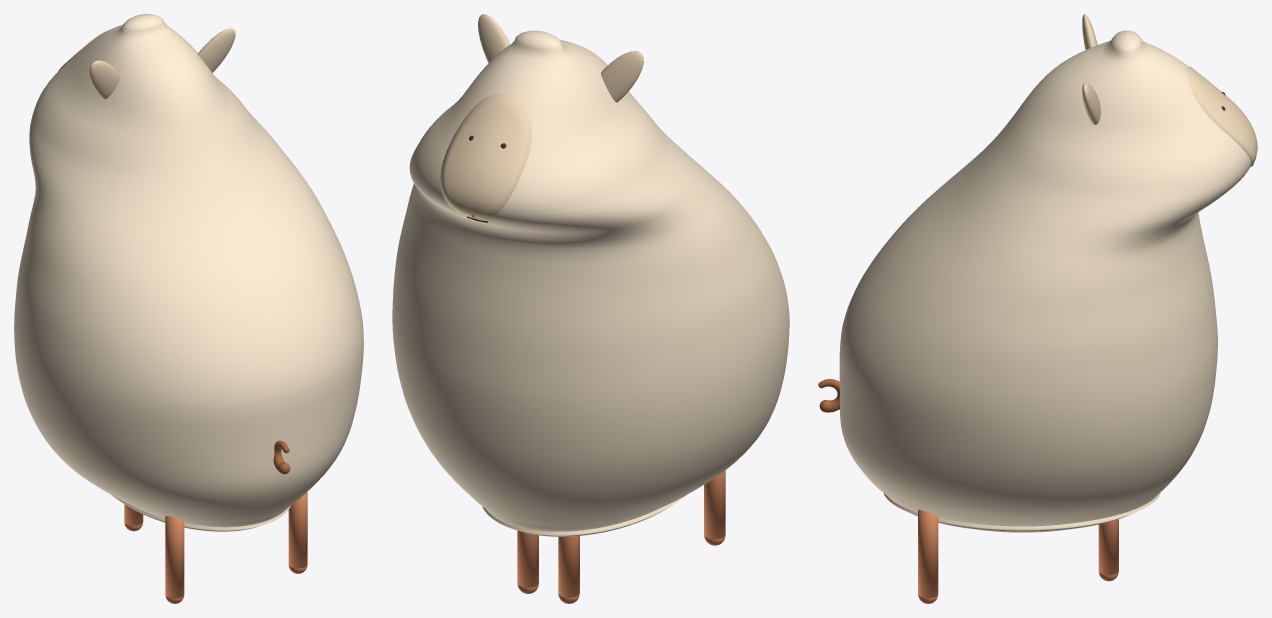
Rendered from sheep_RELEASE_v1.glb.
3 views of the same model, side by side, from view 1: azimuth 30°, elevation 25°; view 2: azimuth 150°, elevation 25°; view 3: azimuth 270°, elevation 25° (orthographic). The views are drawn at different scales.
Visible parts, largest first — view 1: Body, Leg_BR, Leg_BL, Ear_L, Ear_R; view 2: Body, Face, Ear_R, Leg_BR, Leg_FR, Leg_FL, Ear_L; view 3: Body, Face, Leg_BL, Leg_FL.
Part boxes in pixels (<box>): Body: <box>14,14,363,531</box>; Leg_BR: <box>165,516,184,598</box>; Leg_BL: <box>288,492,307,568</box>; Ear_L: <box>198,28,235,72</box>; Ear_R: <box>89,60,120,99</box>; Body: <box>392,30,789,536</box>; Face: <box>440,93,531,219</box>; Ear_R: <box>601,51,643,102</box>; Leg_BR: <box>704,470,725,539</box>; Leg_FR: <box>558,536,579,597</box>; Leg_FL: <box>517,530,538,587</box>; Ear_L: <box>478,14,510,62</box>; Body: <box>839,30,1251,532</box>; Face: <box>1186,66,1257,166</box>; Leg_BL: <box>918,509,938,598</box>; Leg_FL: <box>1098,519,1118,575</box>.
Size of the model in its own units: 1.64 by 2.62 by 1.95.
